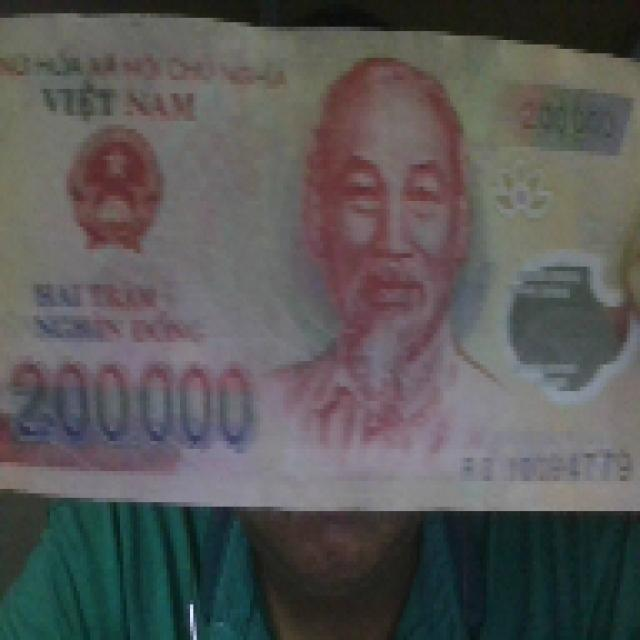200 000 VND: (0, 4, 637, 516)
